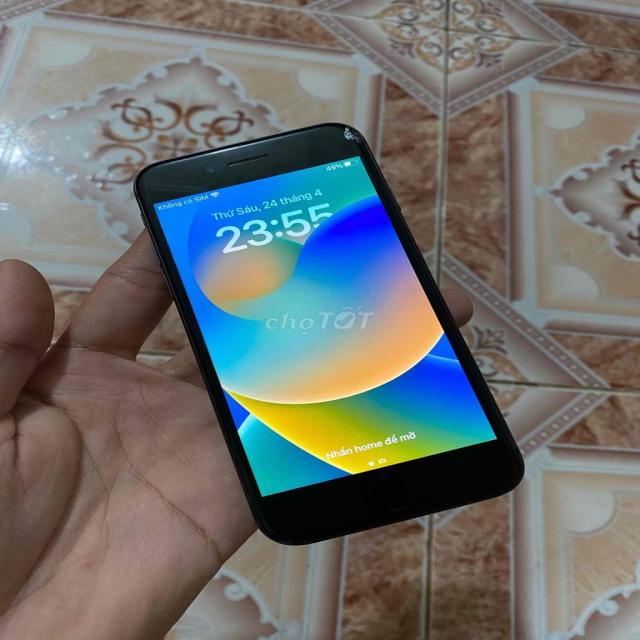physical_damage: (317, 119, 372, 152)
scratch: (137, 170, 222, 206)
